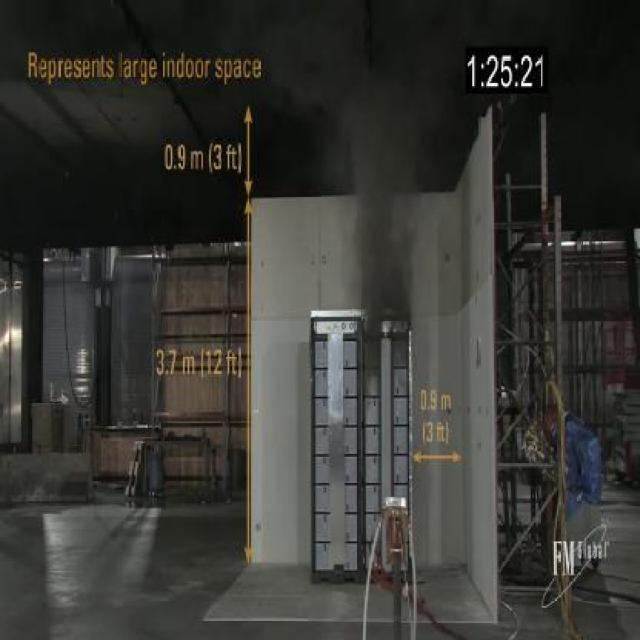fire: (348, 91, 426, 300)
